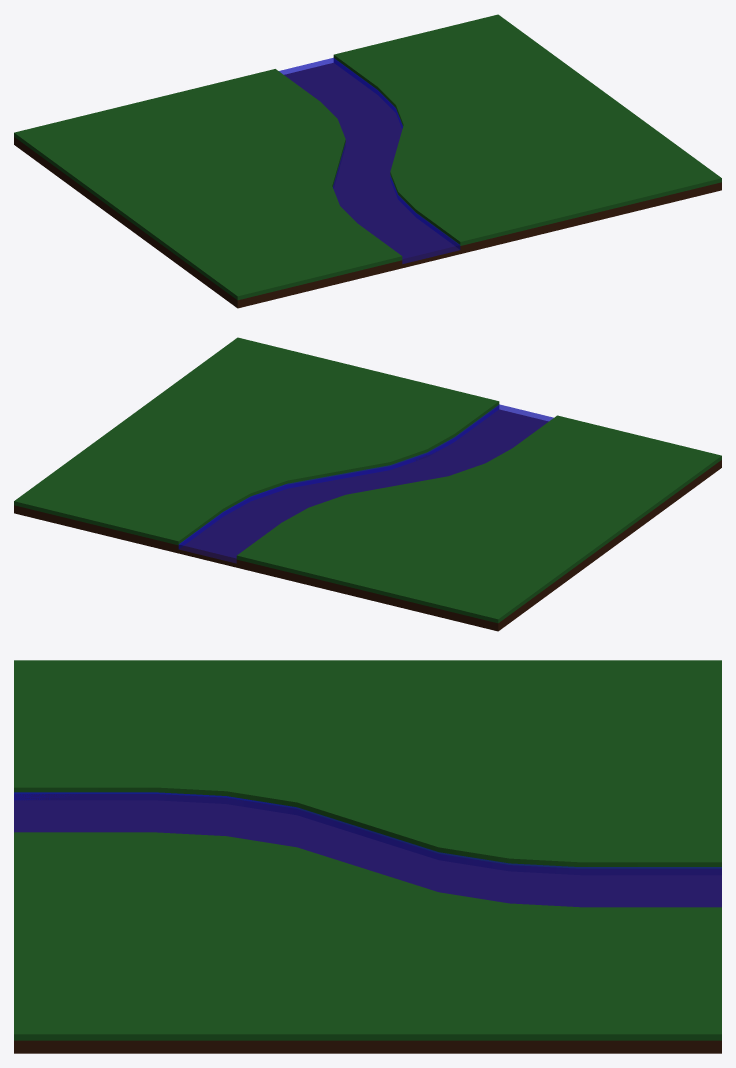
File: Right Bend River.FBX
3 views of the same model, one above another, from view 1: azimuth 30°, elevation 25°; view 2: azimuth 150°, elevation 25°; view 3: azimuth 270°, elevation 25° (orthographic). The views are drawn at different scales.
Visible parts, largest first — view 1: LeftGrass, RightGrass, Ground, Water; view 2: LeftGrass, RightGrass, Ground, Water; view 3: LeftGrass, RightGrass, Ground, Water.
Boxes of the visible parts, x1,y1,x2,y2 form: LeftGrass: [14, 69, 402, 300]; RightGrass: [333, 14, 721, 245]; Ground: [14, 59, 721, 308]; Water: [279, 57, 460, 263]; LeftGrass: [236, 415, 721, 623]; RightGrass: [14, 337, 499, 545]; Ground: [14, 406, 721, 631]; Water: [178, 404, 553, 563]; LeftGrass: [14, 660, 721, 868]; RightGrass: [14, 832, 721, 1040]; Ground: [14, 794, 721, 1053]; Water: [14, 792, 721, 907].
Bounding box in the file's own units: 250 × 200 × 6.
